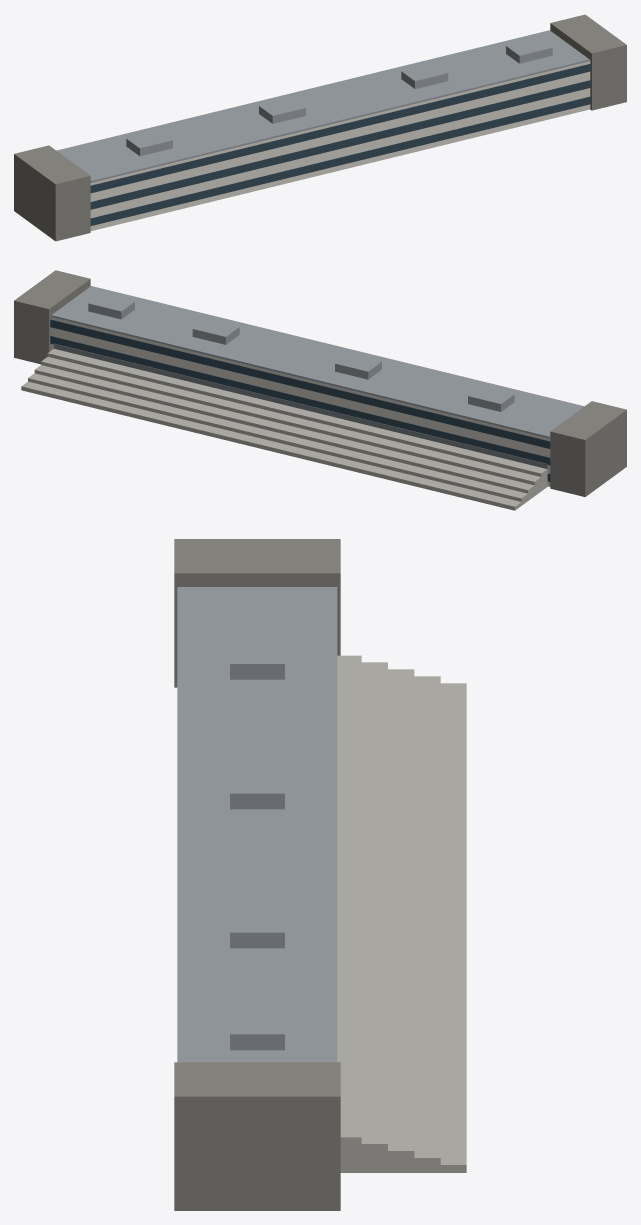
Rendered from canal-olimpico-montreal.glb.
The picture shows the model from 3 angles, top to bottom: view 1: azimuth 30°, elevation 25°; view 2: azimuth 150°, elevation 25°; view 3: azimuth 270°, elevation 25°; orthographic projection. The views are drawn at different scales.
Parts seen in each view (by area): view 1: canal-olimpico-montreal.001; view 2: canal-olimpico-montreal.001; view 3: canal-olimpico-montreal.001.
Part boxes in pixels (bbox=[...]): canal-olimpico-montreal.001: bbox=[14, 14, 626, 241]; canal-olimpico-montreal.001: bbox=[14, 270, 626, 510]; canal-olimpico-montreal.001: bbox=[174, 539, 466, 1210].
Bounding box in the file's own units: 120 × 11.85 × 26.7.
